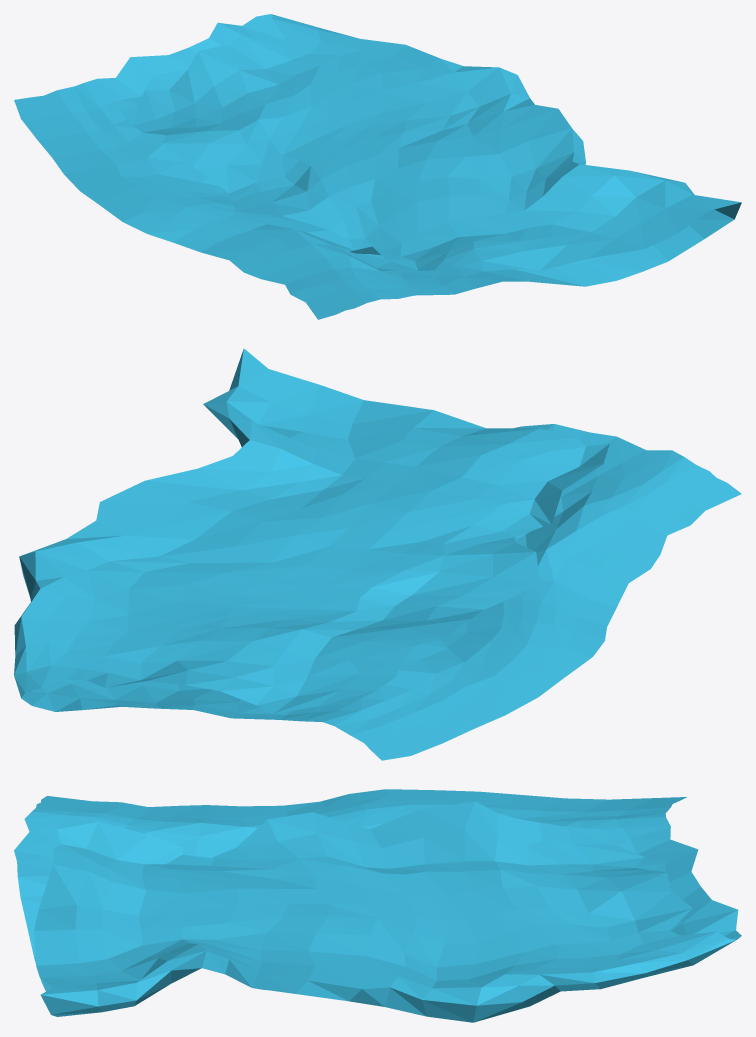
3 renders of one model, top to bottom at view 1: azimuth 30°, elevation 25°; view 2: azimuth 150°, elevation 25°; view 3: azimuth 270°, elevation 25°, orthographic. The views are drawn at different scales.
Parts seen in each view (by area): view 1: 741; view 2: 741; view 3: 741.
Part boxes in pixels (box(x1,y1,x2,y2)): 741: box(14, 14, 741, 319); 741: box(14, 348, 741, 760); 741: box(14, 789, 741, 1022).
Size of the model in its own units: 1.43 by 0.1697 by 1.87.
